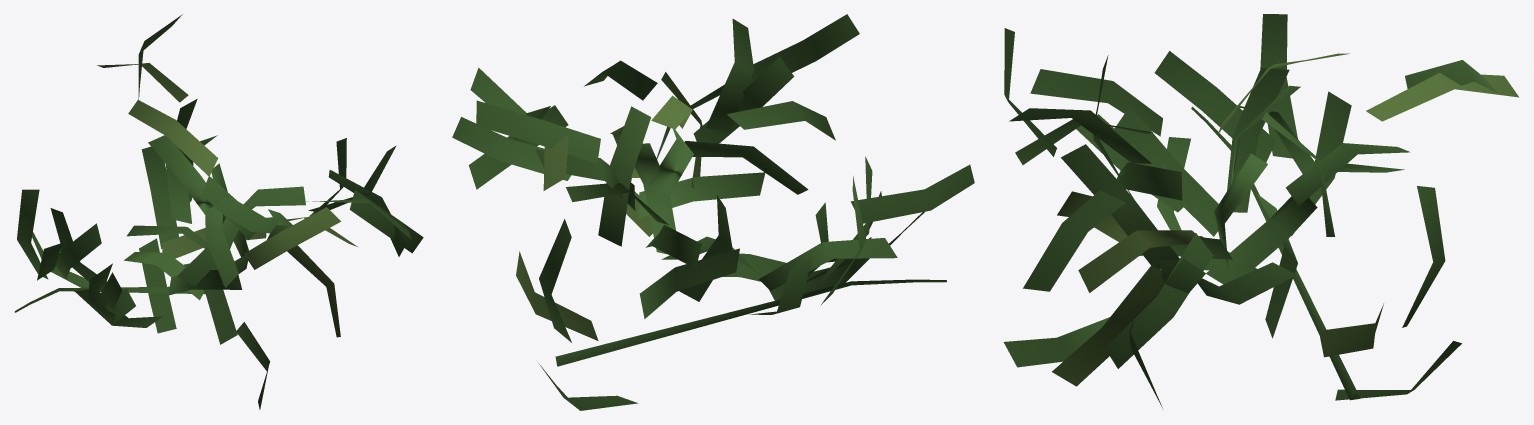
Rendered from arbusto_2_muito_longe.glb.
The picture shows the model from 3 angles, left to right: view 1: azimuth 30°, elevation 25°; view 2: azimuth 150°, elevation 25°; view 3: azimuth 270°, elevation 25°; orthographic projection. The views are drawn at different scales.
Parts seen in each view (by area): view 1: arbusto_2_muito_longe; view 2: arbusto_2_muito_longe; view 3: arbusto_2_muito_longe.
Part boxes in pixels (x1,y1,x2,y2): arbusto_2_muito_longe: (14,14,423,409); arbusto_2_muito_longe: (452,14,974,410); arbusto_2_muito_longe: (1003,14,1519,409).
Size of the model in its own units: 1.05 by 0.6661 by 0.852.
